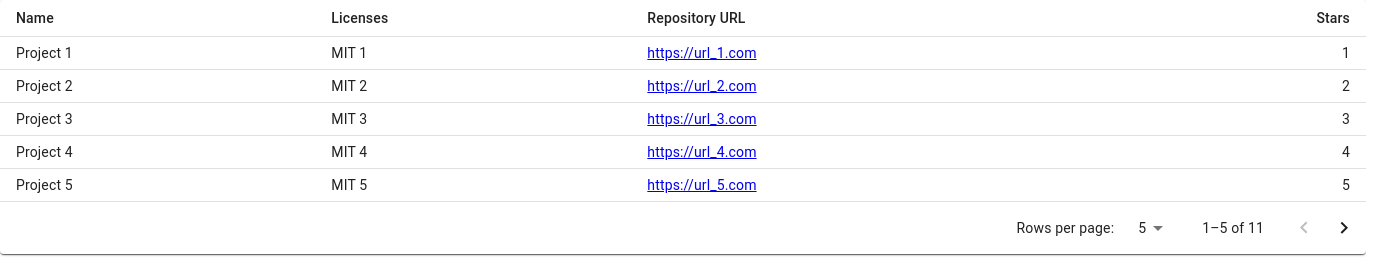
Test case: Project Component › shows the second page of projects after clicking on go to next page button
The image size is (1378, 273).
Expected: the text "Project 1" is shown, [0,36,315,70]
Expected: the text "Project 6" is not shown
Click the button titled "Go to next page".
click(1344, 228)  # box [1324,208,1364,248]
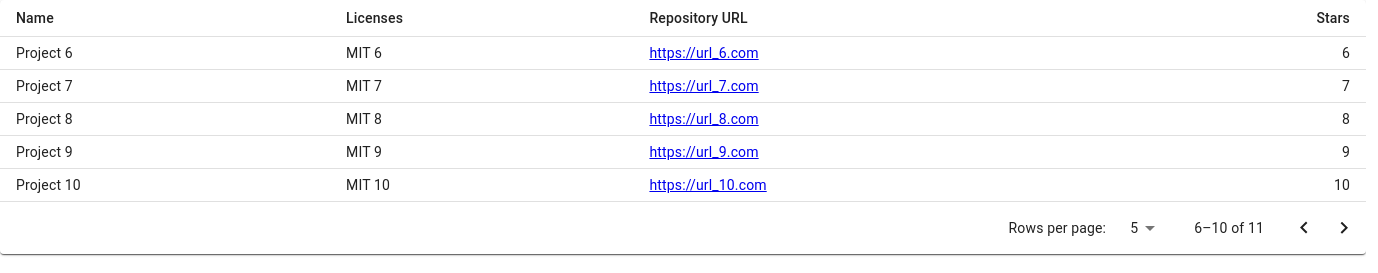
Now the text "Project 6" is shown, box [0,36,330,70]
